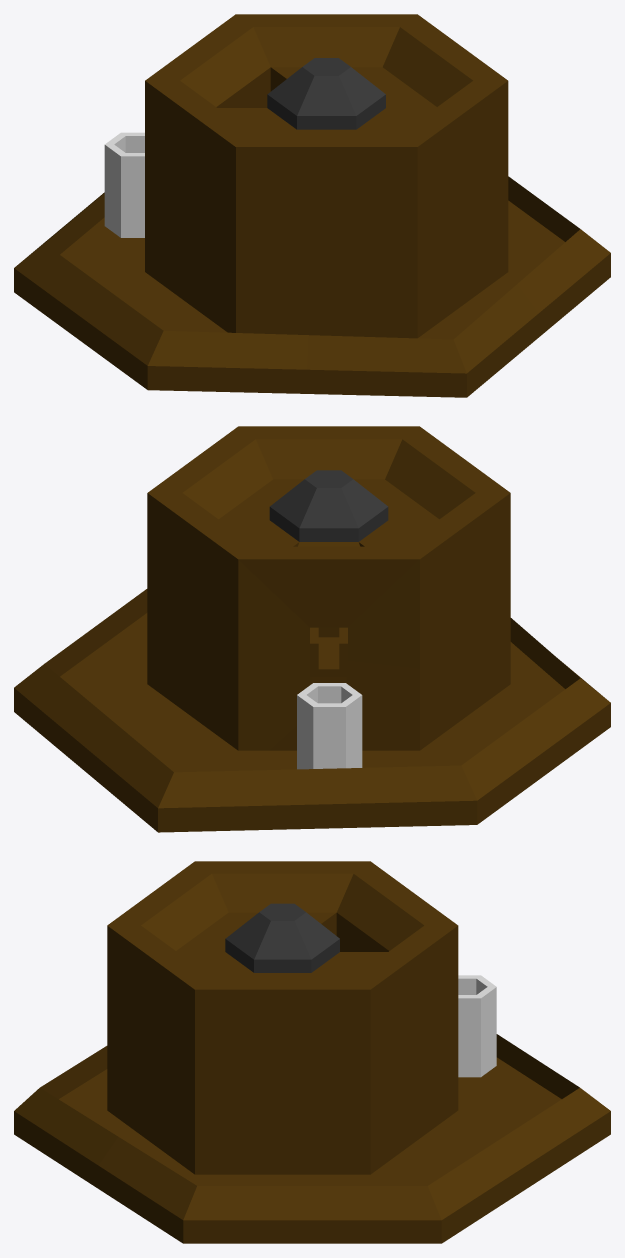
File: squeezer.fbx
3 renders of one model, top to bottom at view 1: azimuth 30°, elevation 25°; view 2: azimuth 150°, elevation 25°; view 3: azimuth 270°, elevation 25°, orthographic. The views are drawn at different scales.
Visible parts, largest first — view 1: Juicer, Juicer Base; view 2: Juicer, Juicer Base; view 3: Juicer, Juicer Base.
Part boxes in pixels (x1,y1,x2,y2): Juicer: (104,14,508,338); Juicer Base: (14,176,610,397); Juicer: (147,426,510,769); Juicer Base: (14,589,610,832); Juicer: (107,861,496,1174); Juicer Base: (14,1034,610,1243).
Size of the model in its own units: 200 by 96.2 by 231.
